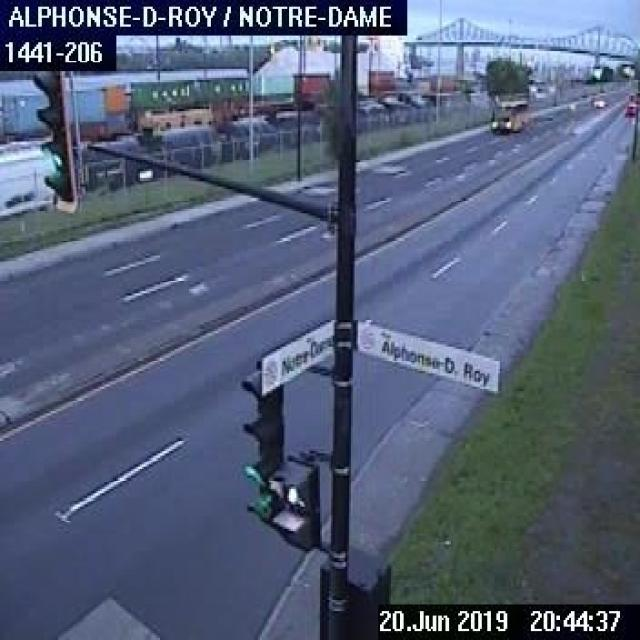bus: (489, 98, 526, 133)
vehicle: (620, 86, 638, 115), (591, 93, 607, 107)
